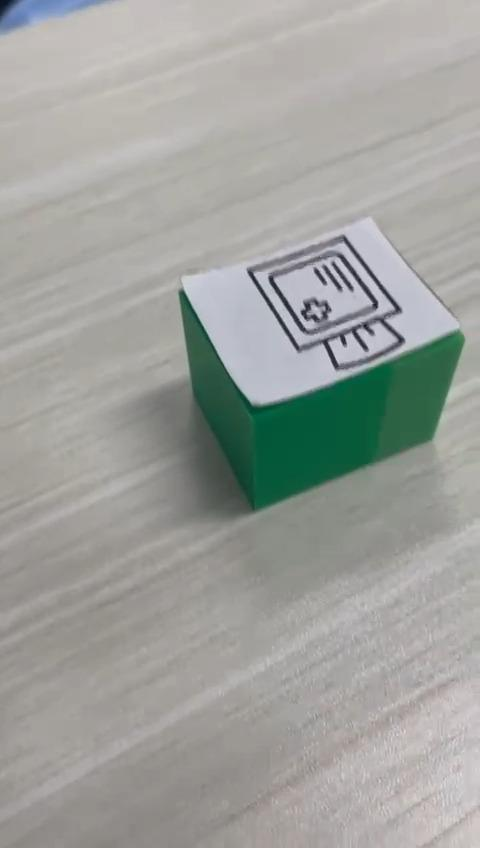Gauze: (177, 214, 465, 511)
